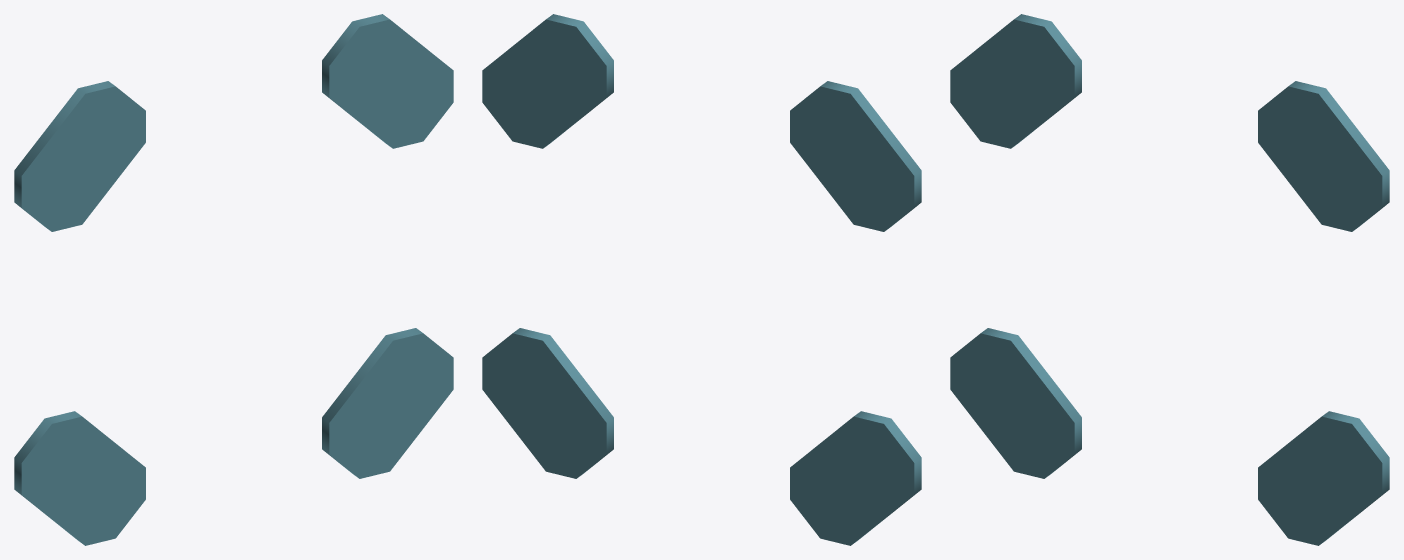
3 views of the same model, side by side, from view 1: azimuth 30°, elevation 25°; view 2: azimuth 150°, elevation 25°; view 3: azimuth 330°, elevation 25° (orthographic).
Parts seen in each view (by area): view 1: prd00000003_oNWWNOk+++++3++-ID+HN_explode_4; view 2: prd00000003_oNWWNOk+++++3++-ID+HN_explode_4; view 3: prd00000003_oNWWNOk+++++3++-ID+HN_explode_4.
Boxes of the visible parts, left/top/right/bottom form: prd00000003_oNWWNOk+++++3++-ID+HN_explode_4: left=14, top=14, right=453, bottom=545; prd00000003_oNWWNOk+++++3++-ID+HN_explode_4: left=482, top=14, right=921, bottom=545; prd00000003_oNWWNOk+++++3++-ID+HN_explode_4: left=950, top=14, right=1389, bottom=545.
Bounding box in the file's own units: 1.01 × 1.01 × 0.03.
